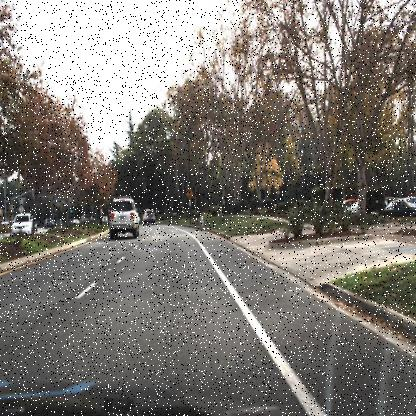car: (108, 193, 140, 243), (109, 196, 141, 240), (10, 212, 35, 236), (142, 207, 158, 222)
